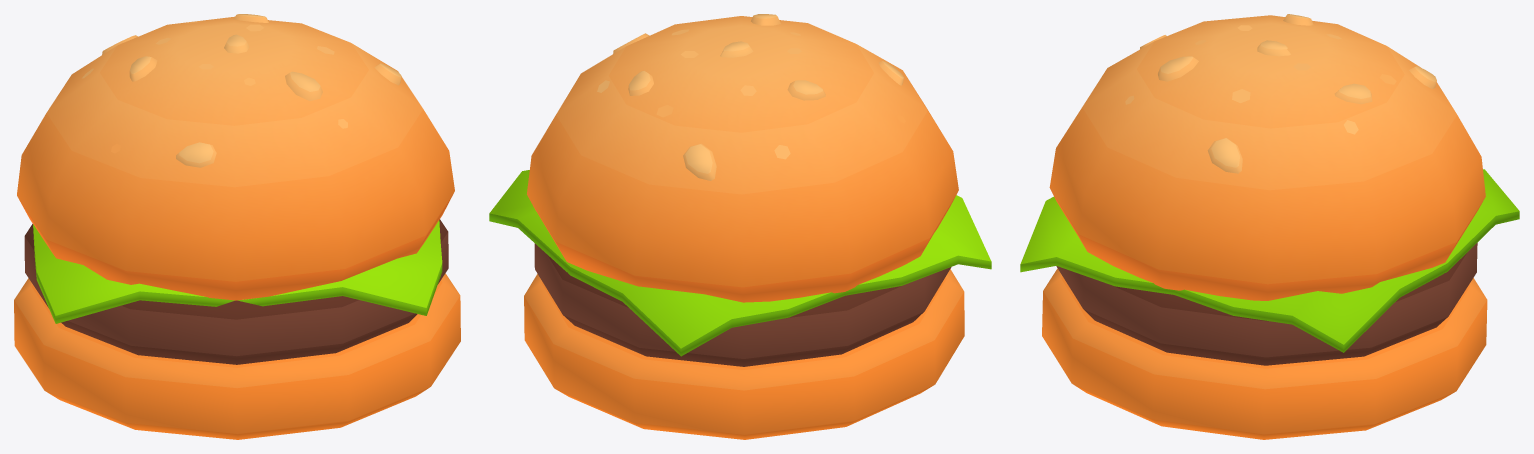
File: brown_hamburger.glb
3 renders of one model, left to right at view 1: azimuth 30°, elevation 25°; view 2: azimuth 150°, elevation 25°; view 3: azimuth 270°, elevation 25°, orthographic.
Visible parts, largest first — view 1: brown_hamburger; view 2: brown_hamburger; view 3: brown_hamburger.
Part boxes in pixels (x1=…): brown_hamburger: x1=14, y1=14, x2=460, y2=439; brown_hamburger: x1=489, y1=14, x2=991, y2=439; brown_hamburger: x1=1020, y1=14, x2=1519, y2=439.
Bounding box in the file's own units: 0.61 × 0.4229 × 0.6094.
1 material, 1 textured.
